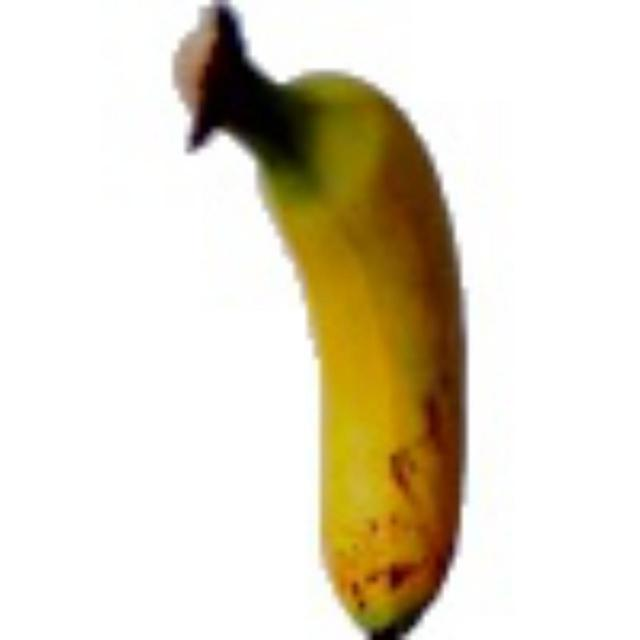banana: (109, 0, 634, 634)
